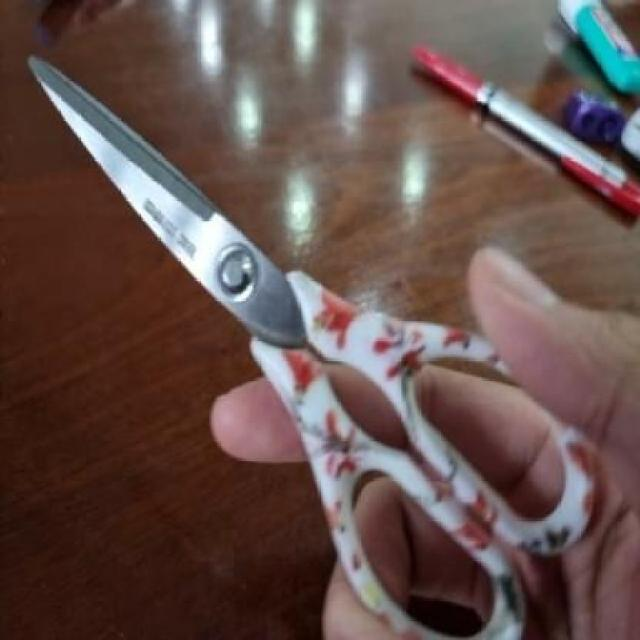not trash: (18, 47, 593, 640), (409, 43, 640, 219), (537, 0, 640, 86), (562, 81, 626, 150)
